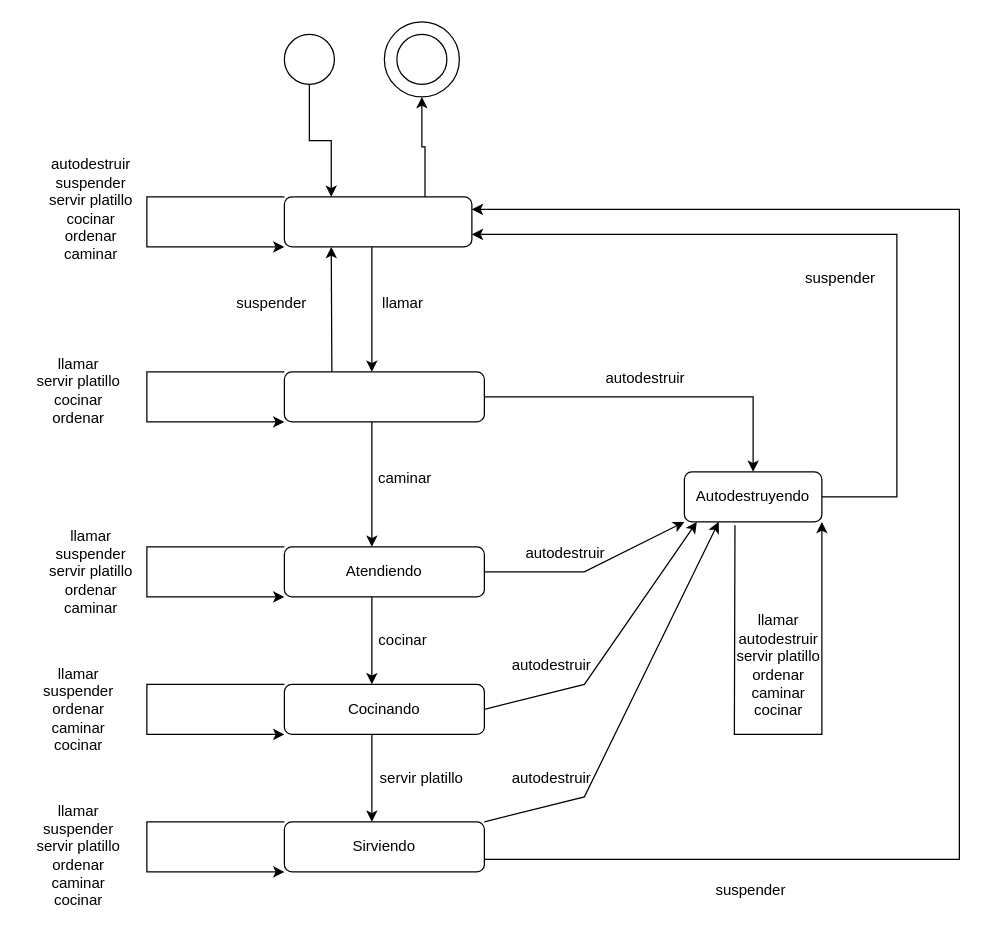
Image size: 991x938. Some labels were removed from this diagram. The box of each missing label's shape, as (x1, y1, x2, y2) in pixels:
Caminando: (283, 371, 484, 422)
Suspendido: (283, 196, 472, 247)
